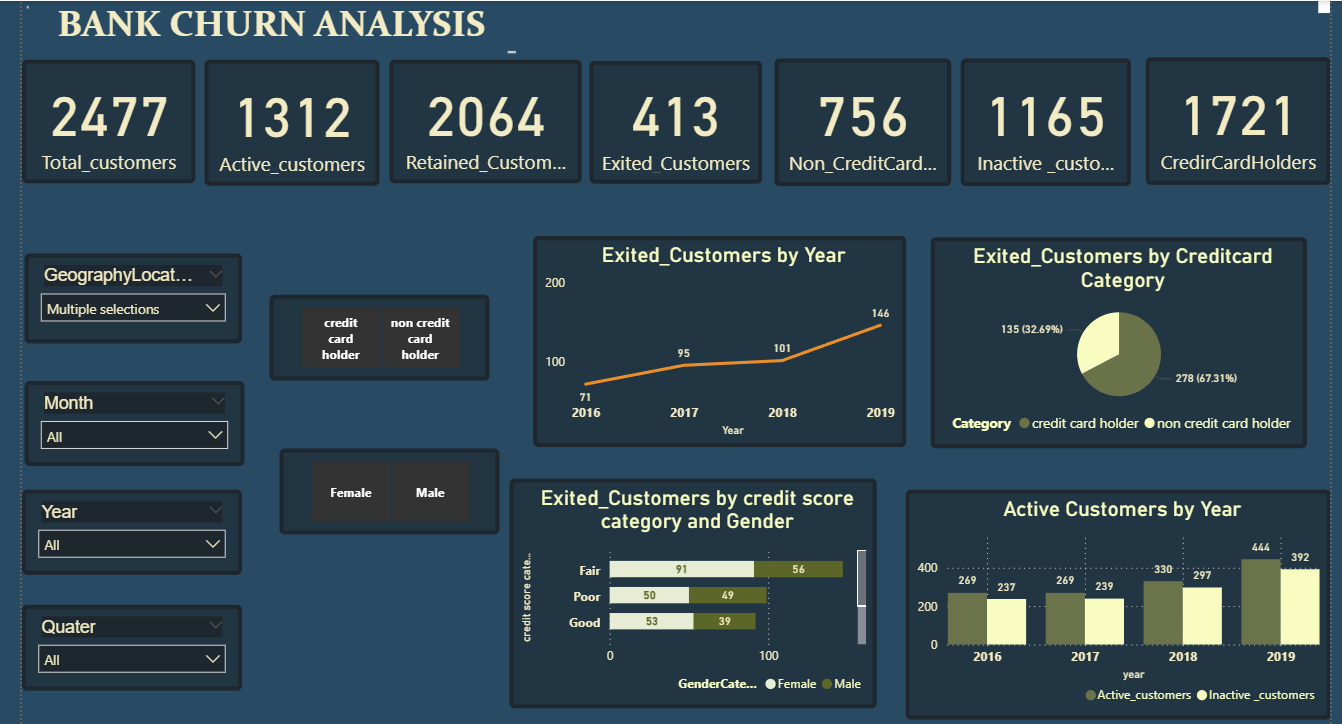

The dashboard page shown, as its layout file describes it:
{"tool":"powerbi","page":{"name":"Page 1","canvas":[1280,720],"ordinal":0},"visuals":[{"type":"card","fields":{"Values":["Bank_Churn.Total_customers"]},"box":[0,57.5,170,121.1],"z":0},{"type":"card","fields":{"Values":["Bank_Churn.Active_customers"]},"box":[178.5,57.5,171.2,123.5],"z":1000},{"type":"card","fields":{"Values":["Bank_Churn.Inactive _customers"]},"box":[918.3,56.3,166.3,124.7],"z":2000},{"type":"card","fields":{"Values":["Bank_Churn.CredirCardHolders"]},"box":[1099.3,55,181,124.7],"z":3000},{"type":"card","fields":{"Values":["Bank_Churn.Non_CreditCardHolders"]},"box":[736.1,56.3,172.4,124.7],"z":4000},{"type":"card","fields":{"Values":["Bank_Churn.Retained_Customers"]},"box":[359.5,57.5,188.3,121.1],"z":5000},{"type":"card","fields":{"Values":["Bank_Churn.Existed_Customers"]},"box":[555.2,58.7,168.8,119.8],"z":6000},{"type":"textbox","box":[0,0,11,12.2],"z":7000},{"type":"slicer","fields":{"Values":["CreditCard.Category"]},"box":[242.1,287.4,215.2,84.4],"z":8000},{"type":"clusteredColumnChart","title":"Active Customers by Year","fields":{"Category":["DateTable.Year"],"Y":["Bank_Churn.Active_customers","Bank_Churn.Inactive _customers"]},"box":[864.5,478.1,415.8,225],"z":9000},{"type":"textbox","title":"BANK CHURN ANALYSIS","box":[0,0,487.9,56.3],"z":10000},{"type":"qnaVisual","box":[1268.1,0,12.2,12.2],"z":11000},{"type":"pieChart","title":"Exited_Customers by Creditcard Category","fields":{"Y":["Bank_Churn.Existed_Customers"],"Category":["CreditCard.Category"]},"box":[889,231.1,368.1,206.7],"z":12000},{"type":"lineChart","fields":{"Category":["DateTable.Year"],"Y":["Bank_Churn.Existed_Customers"]},"box":[500.1,229.9,364.4,206.7],"z":13000},{"type":"slicer","fields":{"Values":["DateTable.Month"]},"box":[2.4,371.7,215.2,83.2],"z":14000},{"type":"slicer","fields":{"Values":["Geography.GeographyLocation"]},"box":[2.4,247,212.8,88],"z":15000},{"type":"barChart","title":"Exited_Customers by credit score category and Gender","fields":{"Y":["Bank_Churn.Existed_Customers"],"Category":["Bank_Churn.credit score category"],"Series":["Gender.GenderCategory"]},"box":[476.9,467.1,359.5,225],"z":16000},{"type":"slicer","fields":{"Values":["DateTable.Year"]},"box":[0,478.1,215.2,83.2],"z":17000},{"type":"slicer","fields":{"Values":["DateTable.Quarter"]},"box":[0,590.6,215.2,84.4],"z":18000},{"type":"slicer","fields":{"Values":["Gender.GenderCategory"]},"box":[251.9,437.8,215.2,84.4],"z":19000}]}

Visuals, with their boxes on the page's 1280x720 design canvas (x1, y1, x2, y2). These are canvas units, not pixel positions in the 1342x724 screenshot, which may show the page scaled, cropped or inside an application window:
card - Bank_Churn.Total_customers: (x1=0, y1=58, x2=170, y2=179)
card - Bank_Churn.Active_customers: (x1=178, y1=58, x2=350, y2=181)
card - Bank_Churn.Inactive _customers: (x1=918, y1=56, x2=1085, y2=181)
card - Bank_Churn.CredirCardHolders: (x1=1099, y1=55, x2=1280, y2=180)
card - Bank_Churn.Non_CreditCardHolders: (x1=736, y1=56, x2=908, y2=181)
card - Bank_Churn.Retained_Customers: (x1=360, y1=58, x2=548, y2=179)
card - Bank_Churn.Existed_Customers: (x1=555, y1=59, x2=724, y2=178)
textbox: (x1=0, y1=0, x2=11, y2=12)
slicer - CreditCard.Category: (x1=242, y1=287, x2=457, y2=372)
"Active Customers by Year" clusteredColumnChart: (x1=864, y1=478, x2=1280, y2=703)
"BANK CHURN ANALYSIS" textbox: (x1=0, y1=0, x2=488, y2=56)
qnaVisual: (x1=1268, y1=0, x2=1280, y2=12)
"Exited_Customers by Creditcard Category" pieChart: (x1=889, y1=231, x2=1257, y2=438)
lineChart - DateTable.Year x Bank_Churn.Existed_Customers: (x1=500, y1=230, x2=864, y2=437)
slicer - DateTable.Month: (x1=2, y1=372, x2=218, y2=455)
slicer - Geography.GeographyLocation: (x1=2, y1=247, x2=215, y2=335)
"Exited_Customers by credit score category and Gender" barChart: (x1=477, y1=467, x2=836, y2=692)
slicer - DateTable.Year: (x1=0, y1=478, x2=215, y2=561)
slicer - DateTable.Quarter: (x1=0, y1=591, x2=215, y2=675)
slicer - Gender.GenderCategory: (x1=252, y1=438, x2=467, y2=522)
